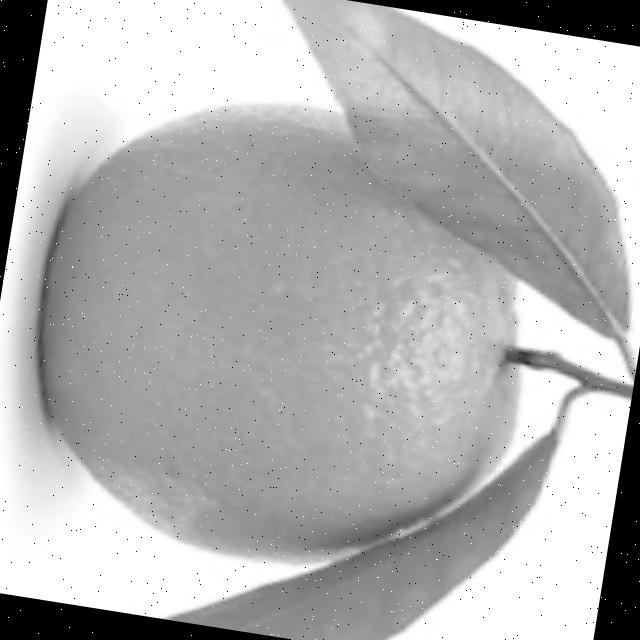orange: (4, 66, 568, 601)
